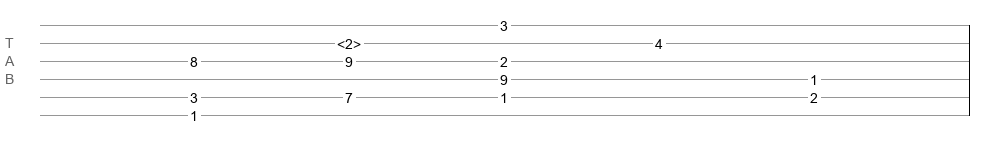1: (190, 108, 198, 118), (500, 90, 508, 100), (810, 72, 818, 82)
2: (500, 54, 508, 64), (810, 90, 818, 100)
3: (190, 90, 198, 100), (500, 18, 508, 28)
4: (655, 36, 663, 46)
7: (345, 90, 353, 100)
8: (190, 54, 198, 64)
9: (345, 54, 353, 64), (500, 72, 508, 82)
harmonic: (337, 36, 361, 46)
